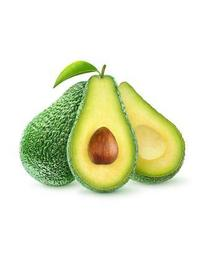avocado: (67, 74, 137, 193), (106, 81, 185, 184), (19, 81, 95, 188)
